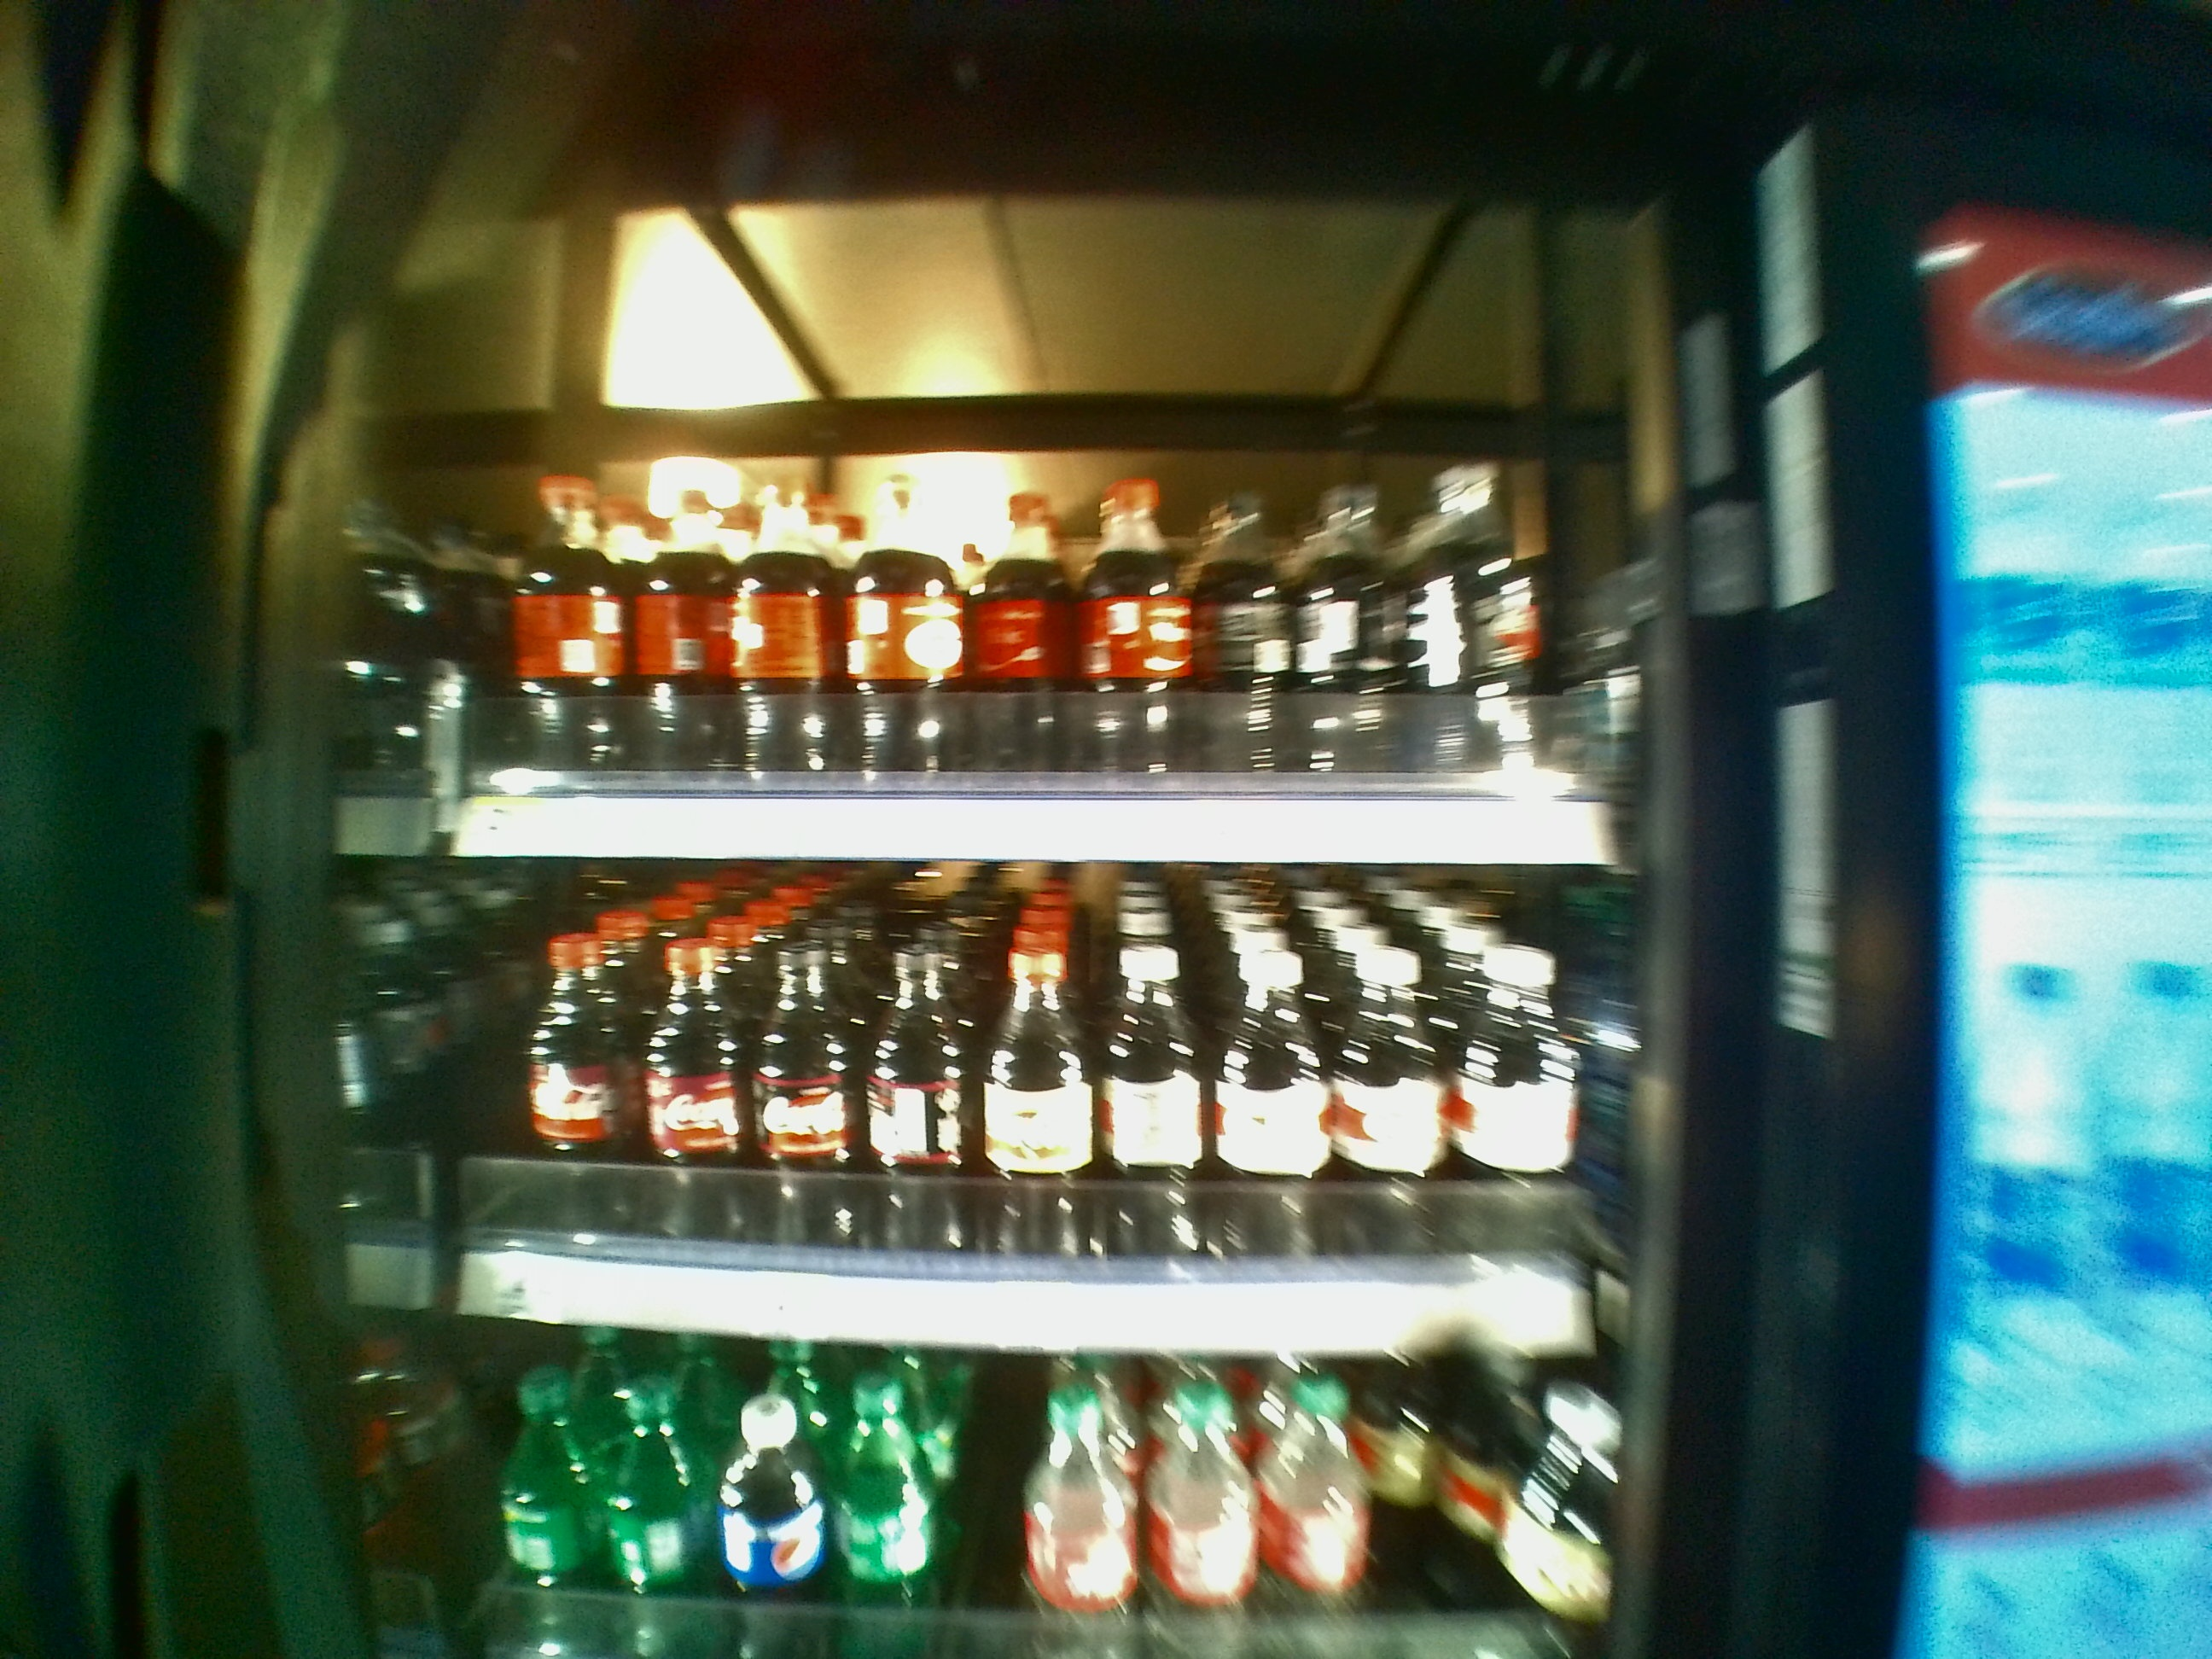shelf: (456, 315, 1623, 863), (451, 873, 1627, 1359)
